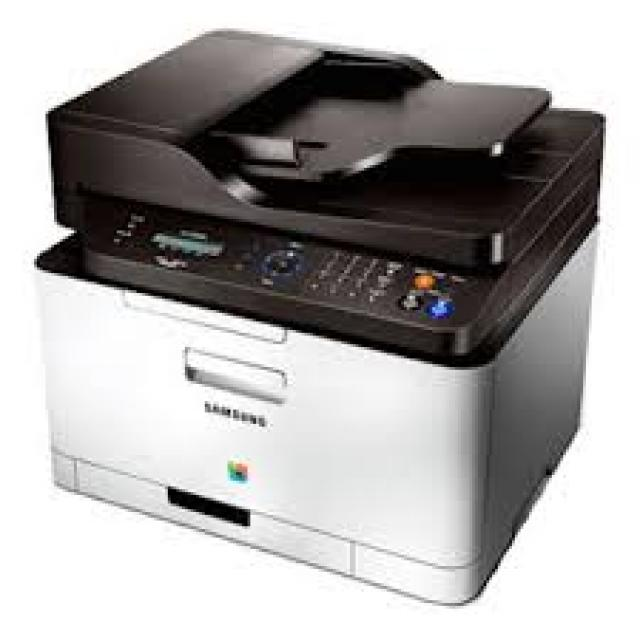printer: (21, 22, 618, 620)
